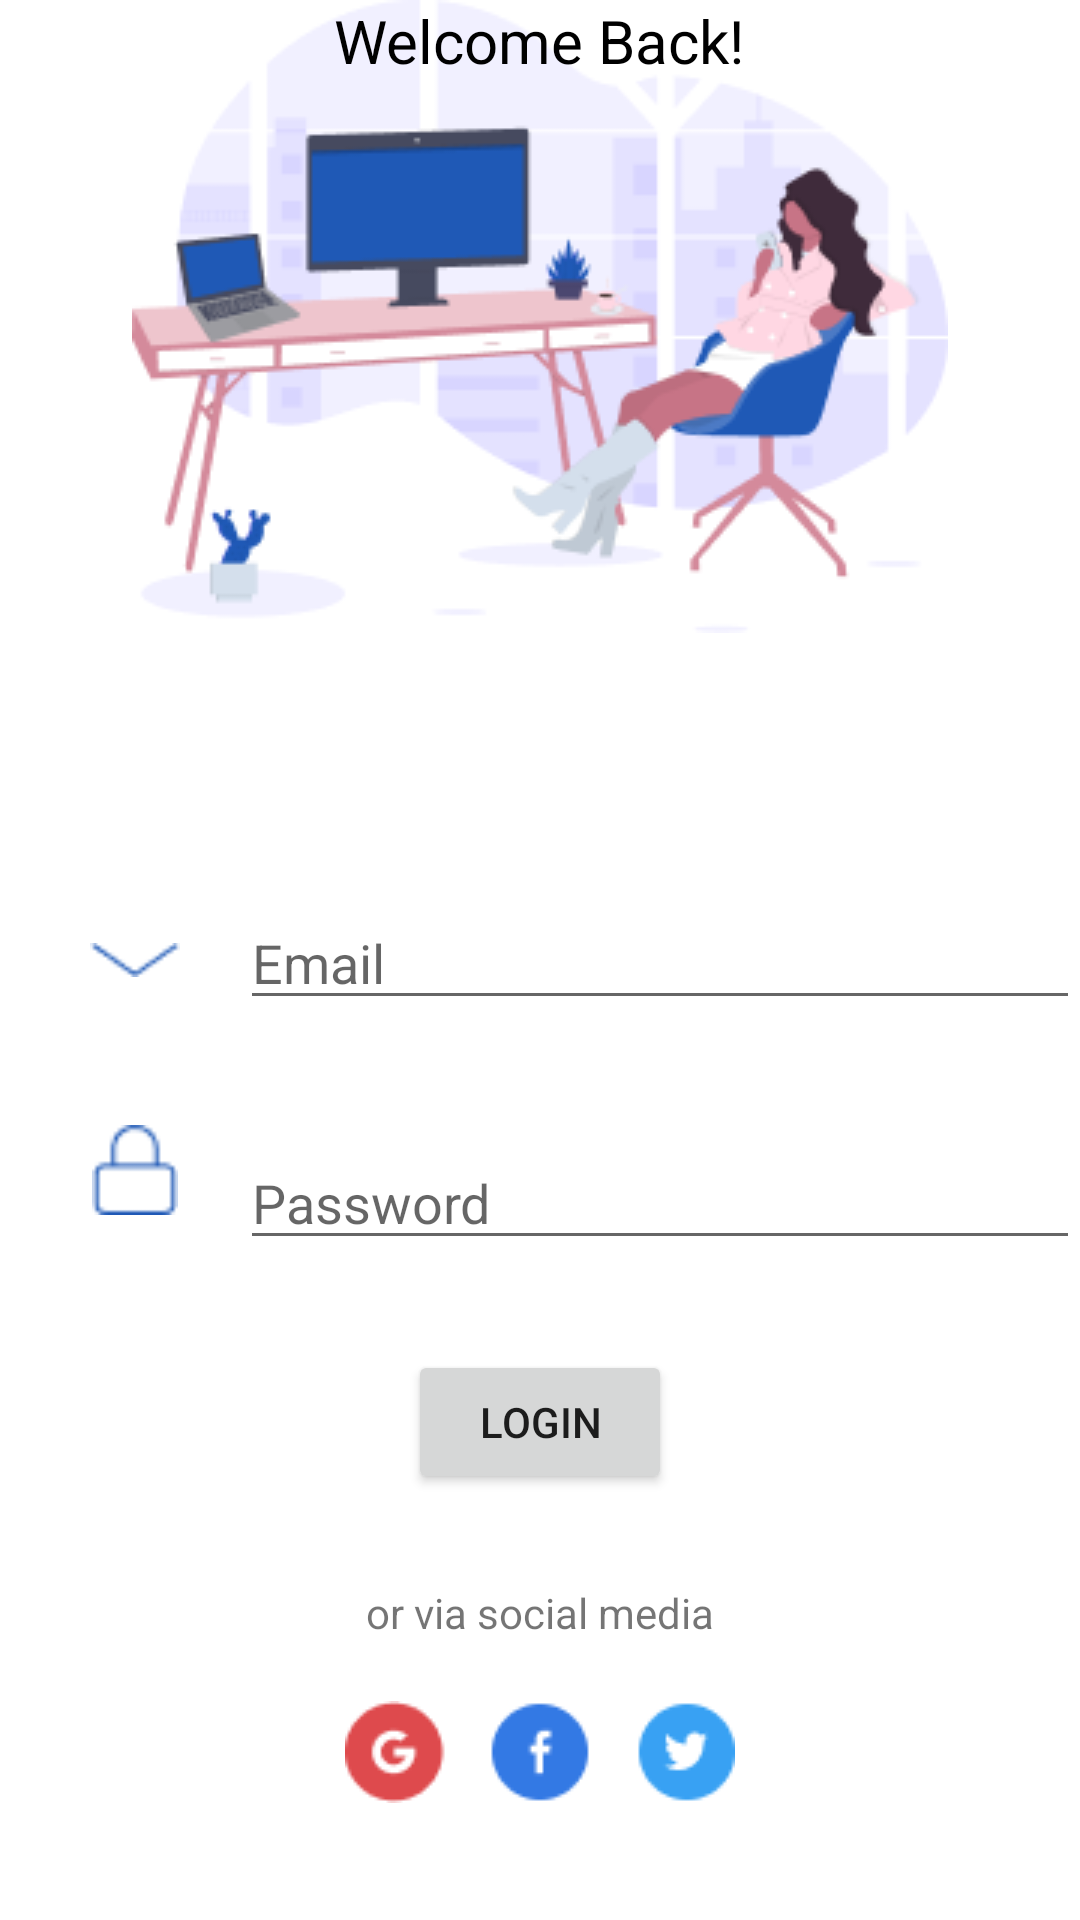

Locate icon controls on the screen. Image size 1080px×1920px, boxes as (x1, y1, x2, y2).
lock: (92, 1125, 178, 1215)
